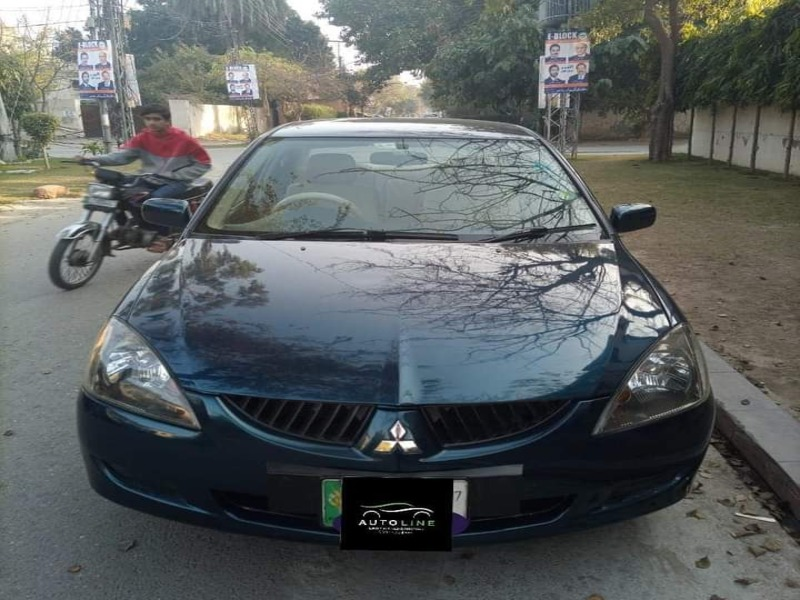License Plate: (316, 472, 479, 558)
